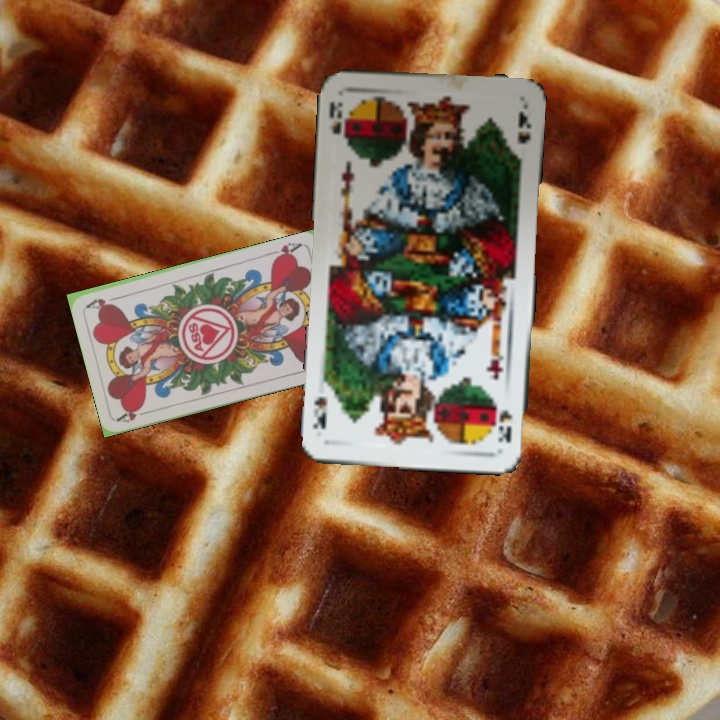HA: (265, 238, 305, 263), (114, 402, 154, 425)
SK: (324, 97, 350, 150), (494, 406, 515, 445)
